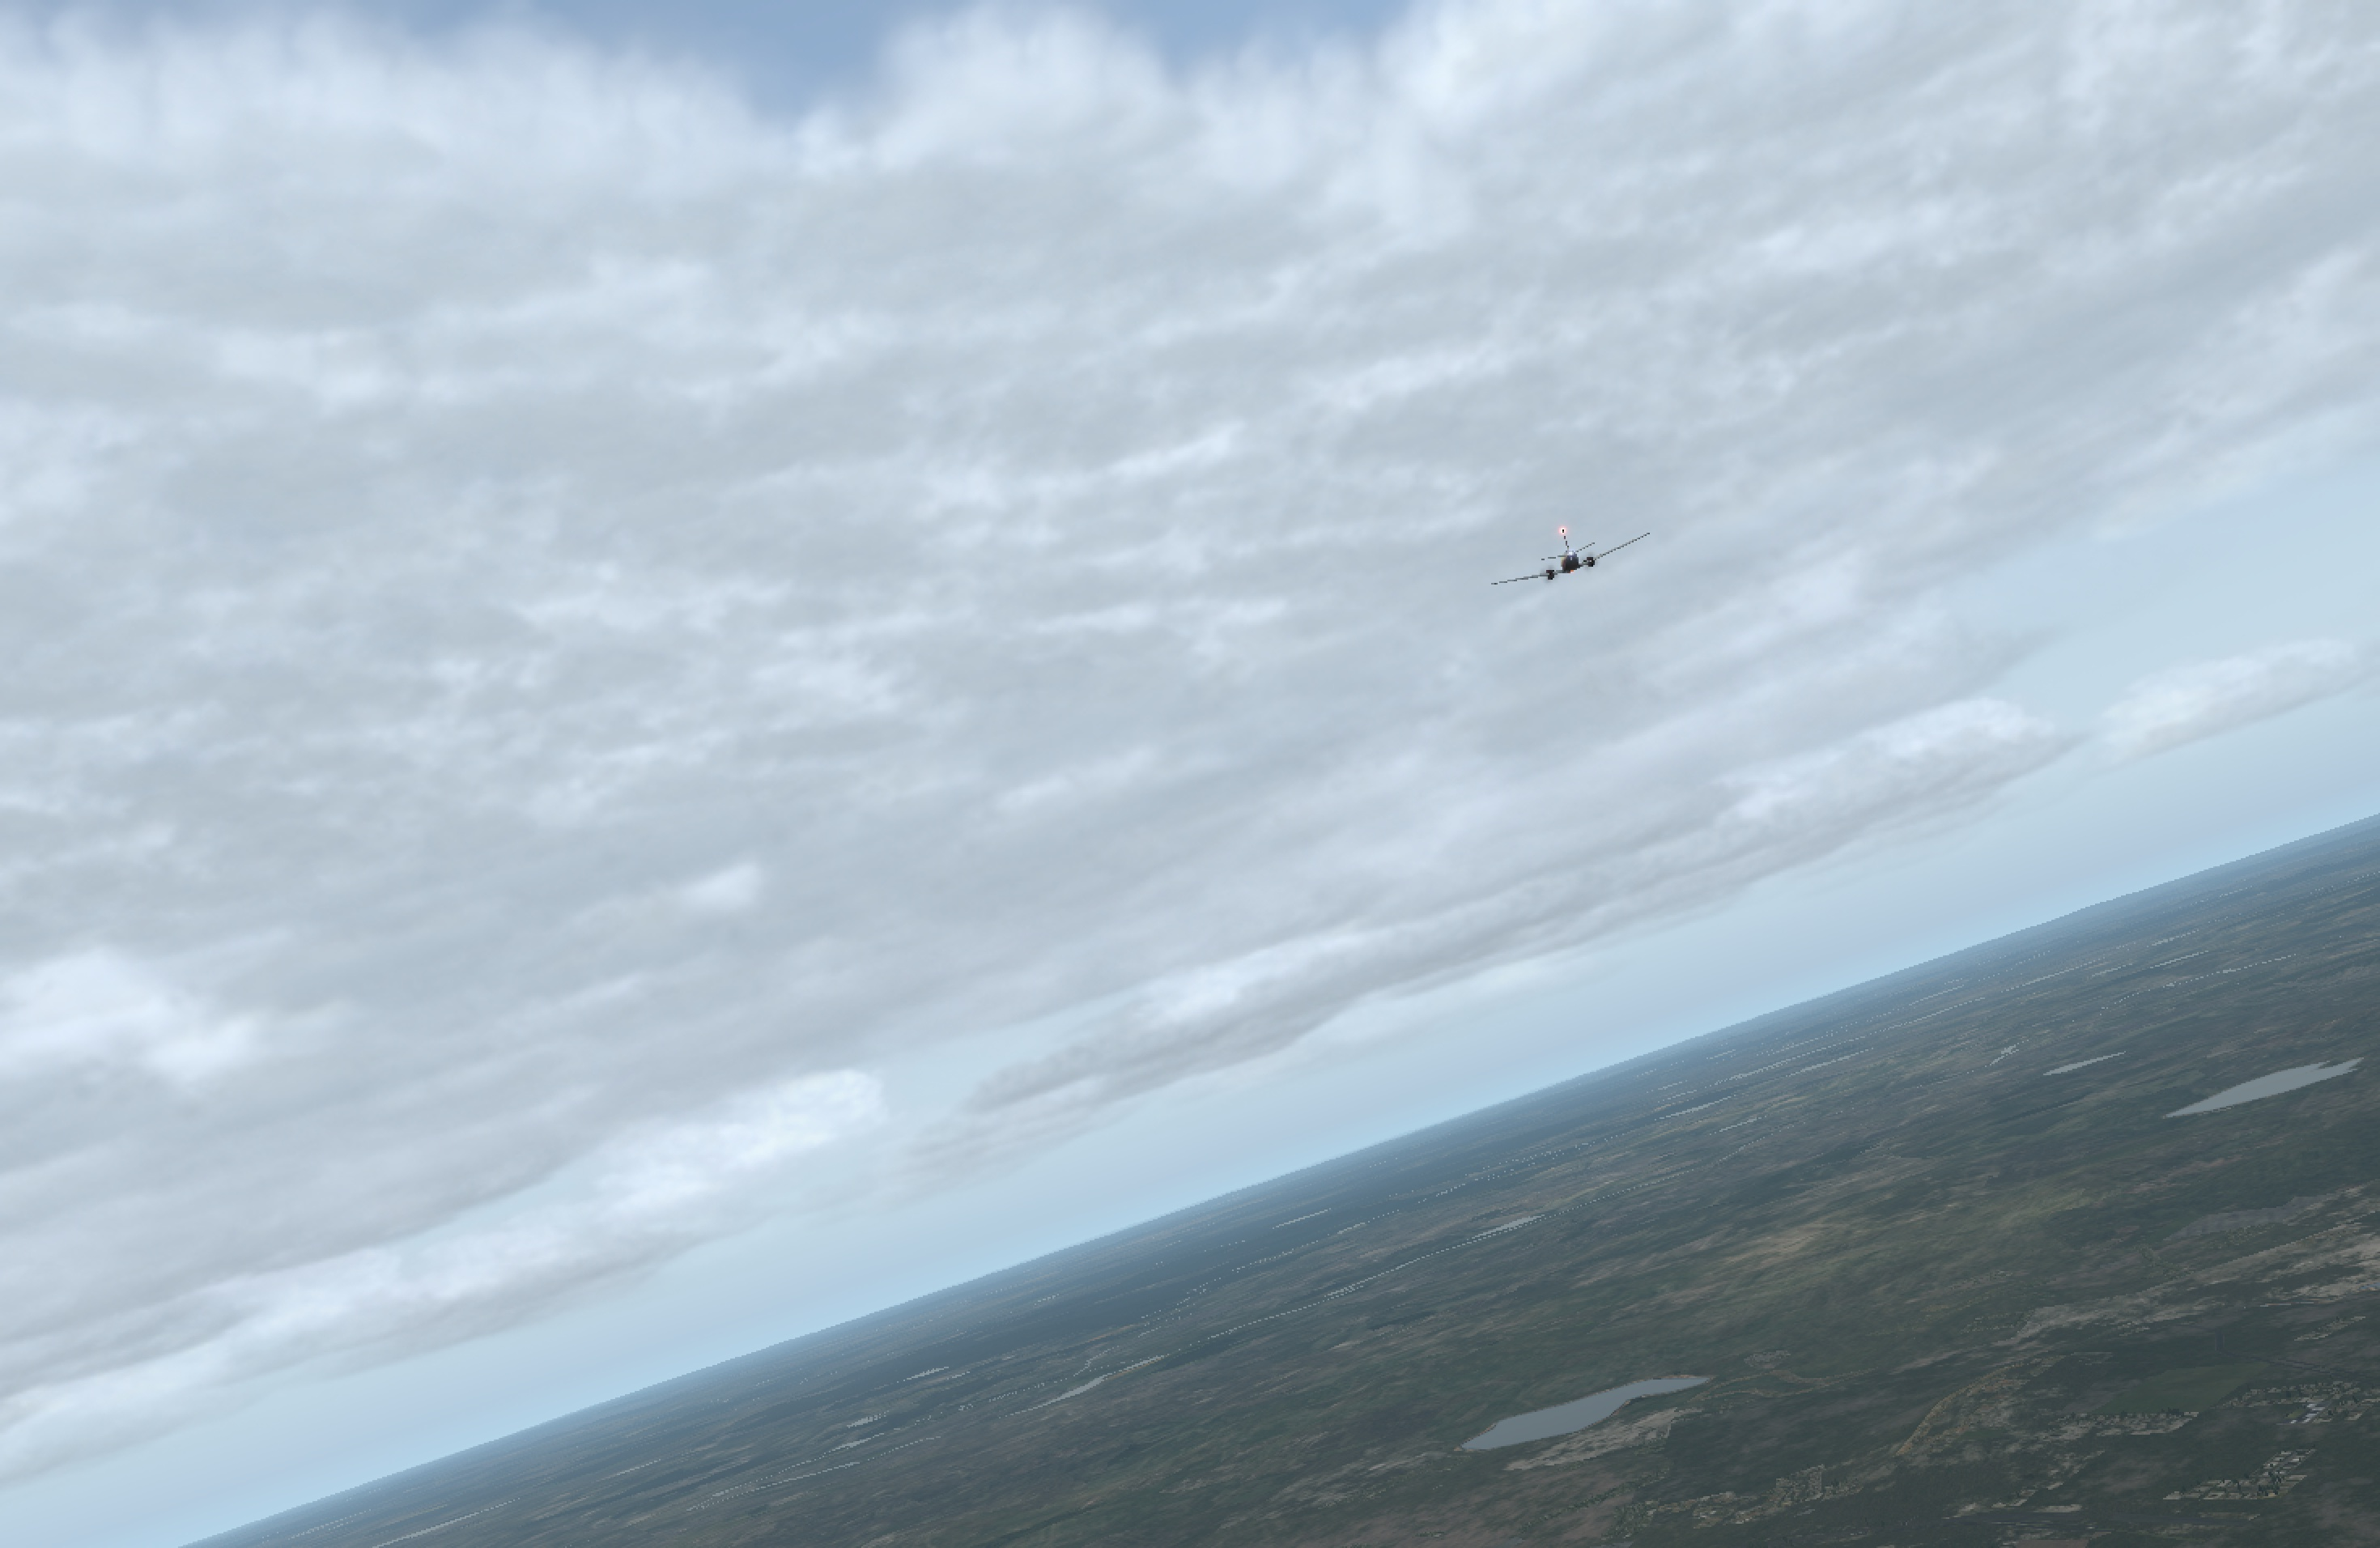aircraft: (1490, 540, 1653, 600)
